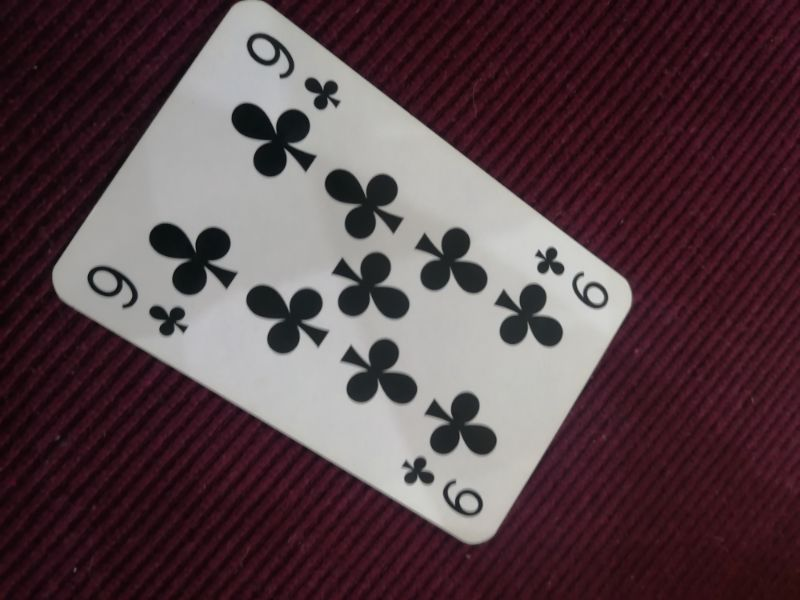9c: (243, 27, 347, 112), (82, 262, 193, 340), (398, 451, 487, 522), (529, 242, 610, 313)
